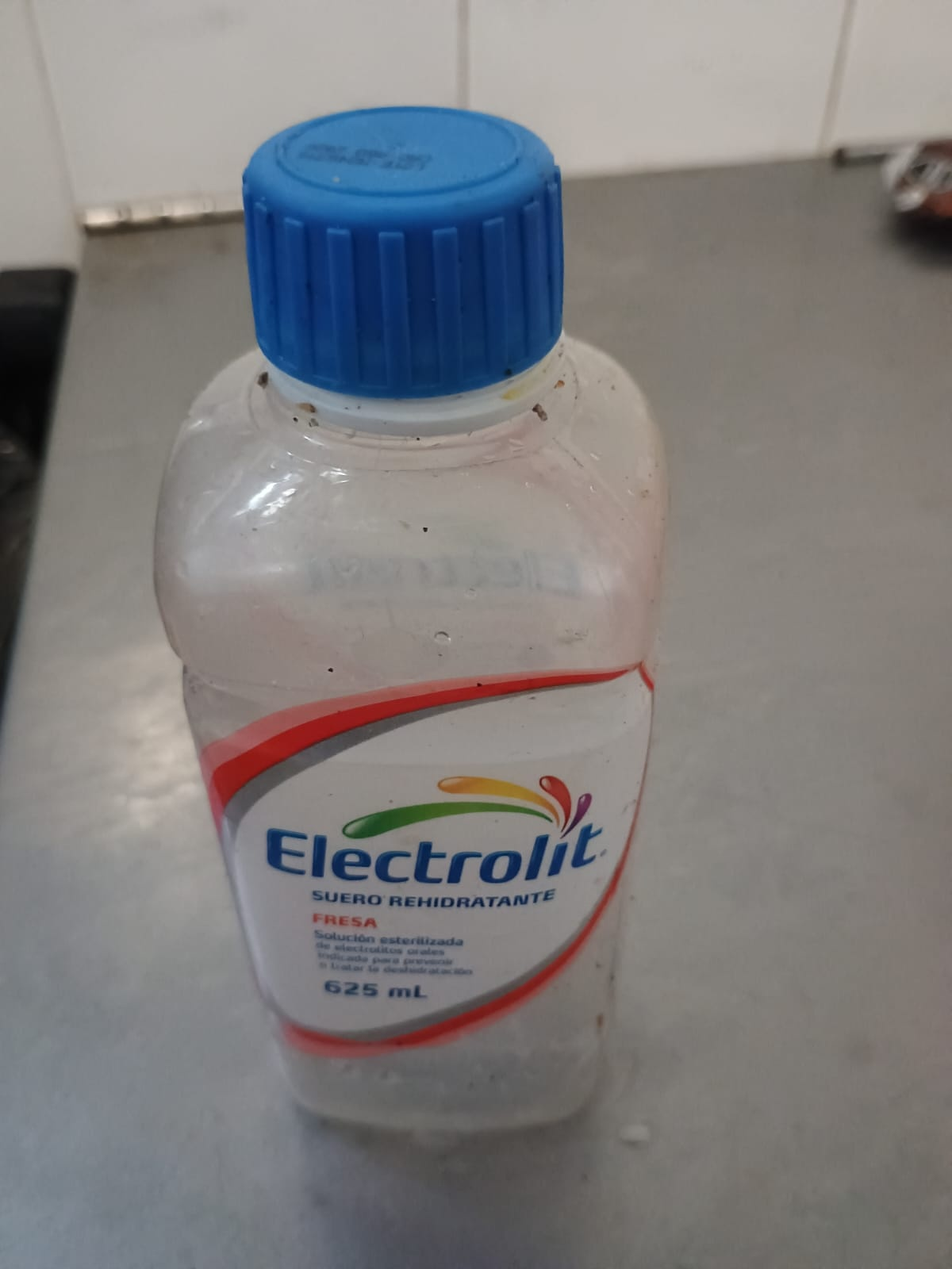Plastico: (156, 103, 659, 1134)
